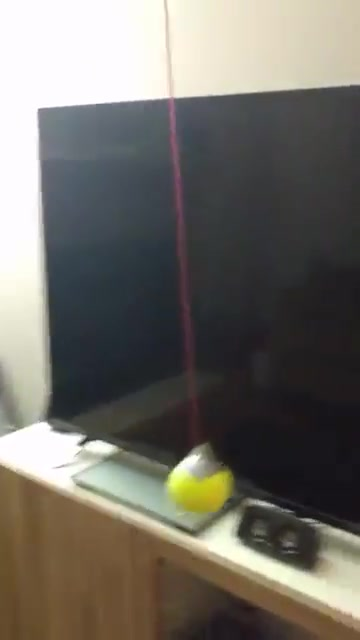tennis_ball: (164, 448, 237, 518)
